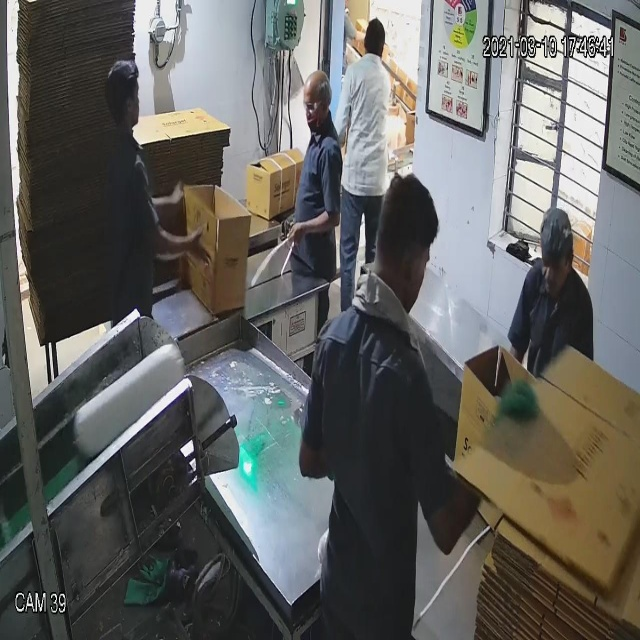Sin_guantes: (140, 213, 214, 283), (275, 196, 342, 257), (142, 162, 193, 229)
